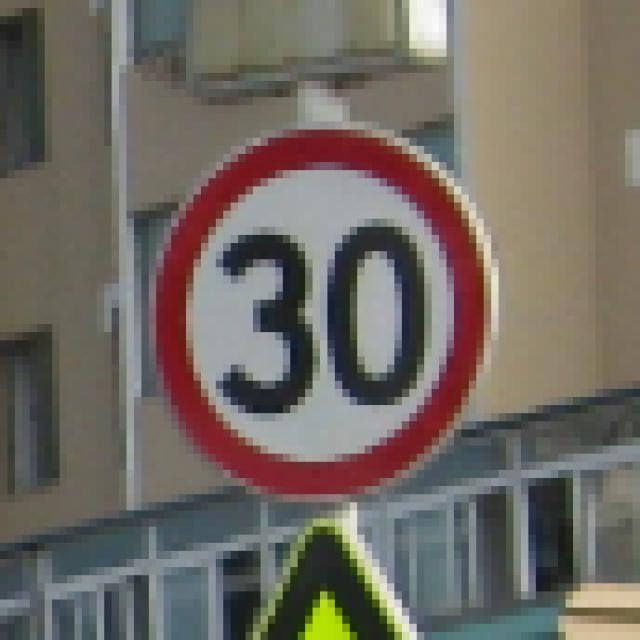Speed: (144, 108, 514, 517)
